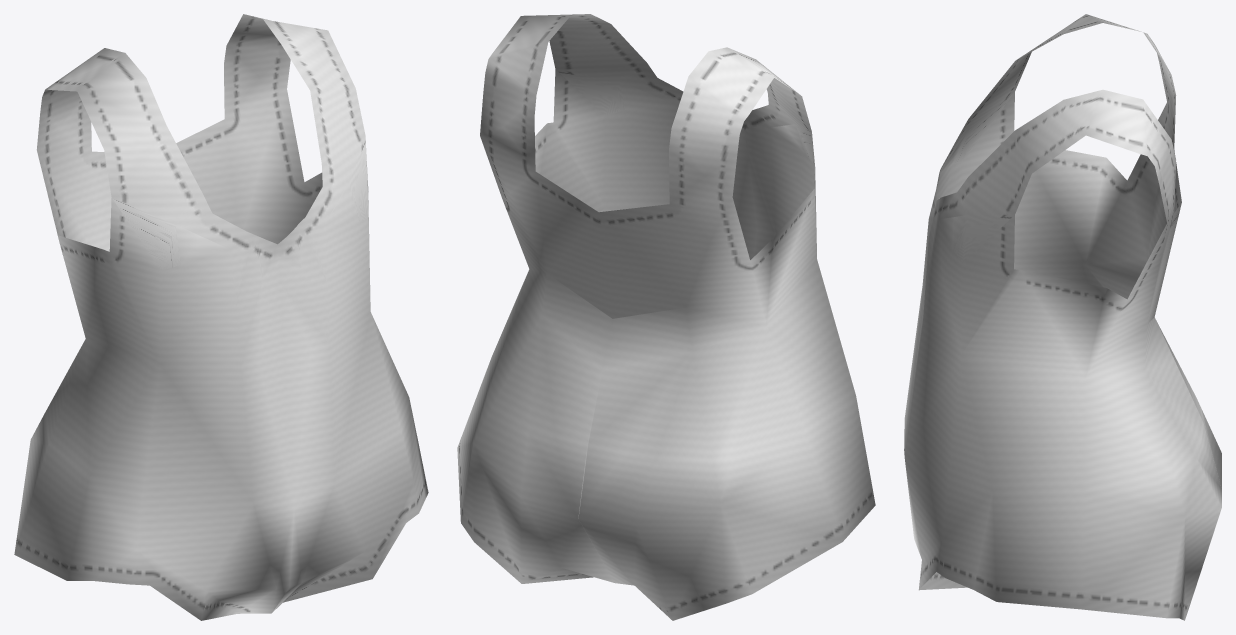
Rendered from Leotard.glb.
3 views of the same model, side by side, from view 1: azimuth 30°, elevation 25°; view 2: azimuth 150°, elevation 25°; view 3: azimuth 270°, elevation 25° (orthographic).
Visible parts, largest first — view 1: Leotard; view 2: Leotard; view 3: Leotard.
Part boxes in pixels (x1,y1,x2,y2): Leotard: (14, 14, 428, 620); Leotard: (457, 14, 875, 620); Leotard: (904, 14, 1221, 620).
Bounding box in the file's own units: 6.26 × 8.34 × 4.55.
Materials: 1 (1 with a texture image).
